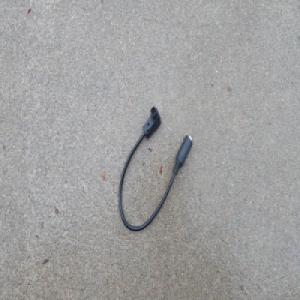Wire: (117, 105, 193, 232)
